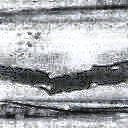crackTip: (1, 62, 128, 93)
